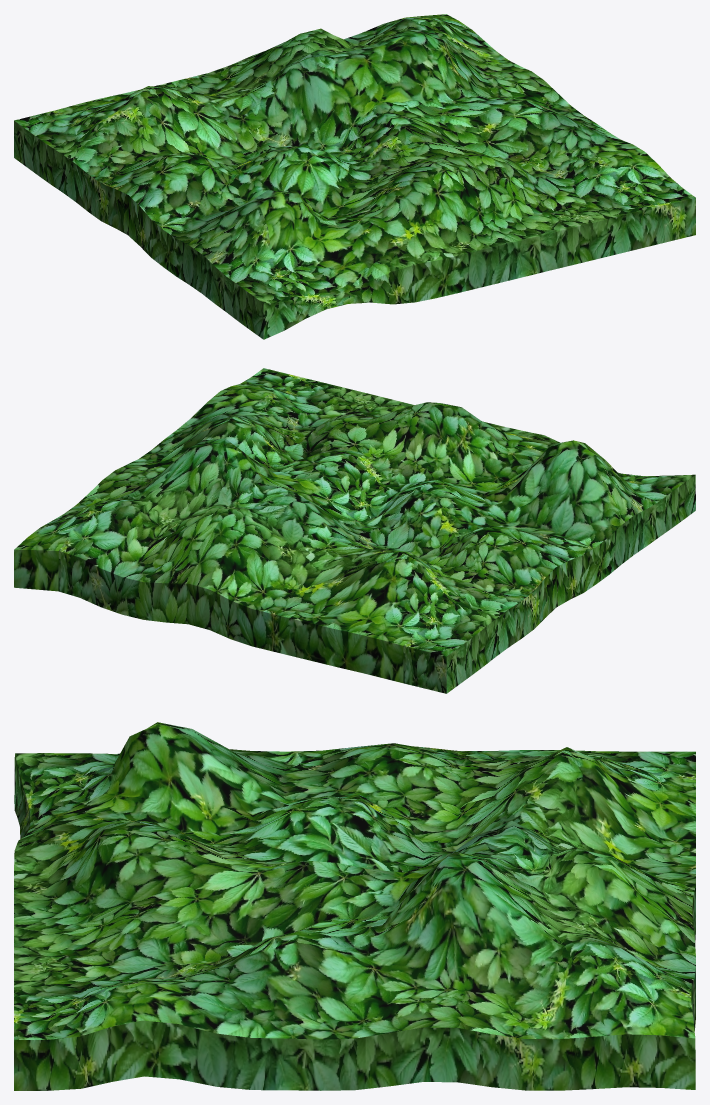
Rendered from Details.fbx.
3 views of the same model, one above another, from view 1: azimuth 30°, elevation 25°; view 2: azimuth 150°, elevation 25°; view 3: azimuth 270°, elevation 25° (orthographic). The views are drawn at different scales.
Visible parts, largest first — view 1: pCube1; view 2: pCube1; view 3: pCube1.
Part boxes in pixels (box(x1,y1,x2,y2)): pCube1: box(14, 14, 695, 339); pCube1: box(14, 368, 695, 693); pCube1: box(14, 722, 695, 1090).
Bounding box in the file's own units: 142 × 35.08 × 142.
Materials: 1 (1 with a texture image).
